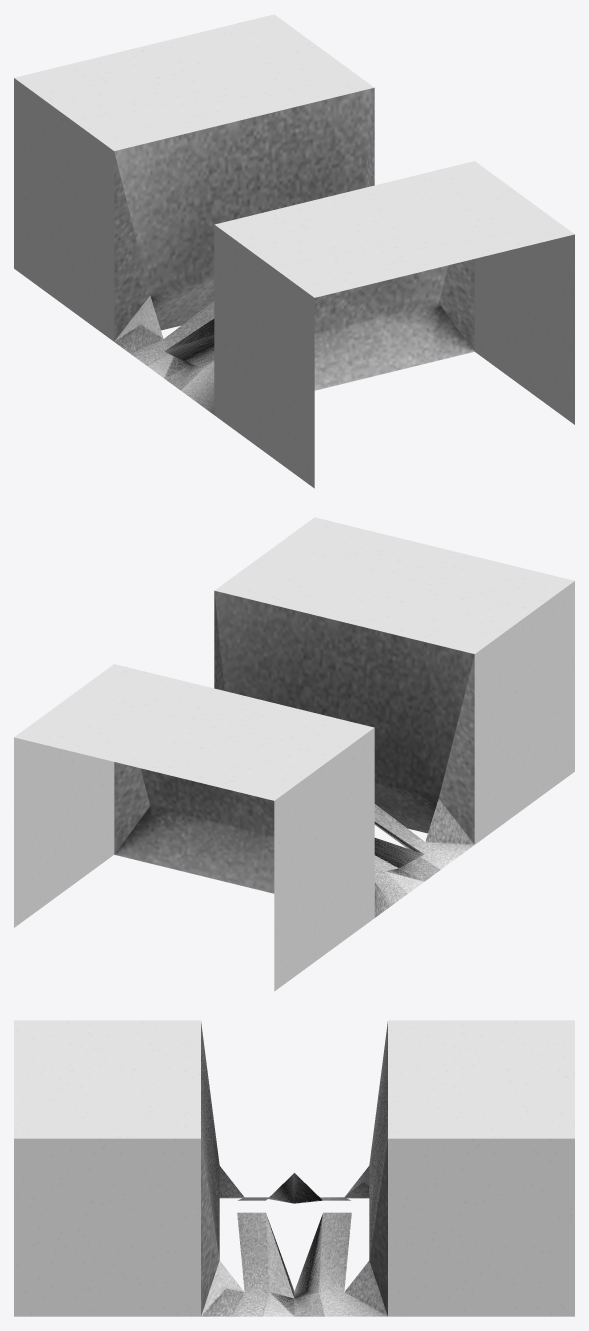
The model's file is Mod2D_SimplePit_01.fbx.
3 views of the same model, one above another, from view 1: azimuth 30°, elevation 25°; view 2: azimuth 150°, elevation 25°; view 3: azimuth 270°, elevation 25° (orthographic). The views are drawn at different scales.
Parts seen in each view (by area): view 1: Cube_022; view 2: Cube_022; view 3: Cube_022.
Boxes of the visible parts, x1,y1,x2,y2 form: Cube_022: [14, 14, 574, 488]; Cube_022: [14, 517, 574, 991]; Cube_022: [14, 1020, 574, 1316].
Size of the model in its own units: 2 by 1.4 by 4.
